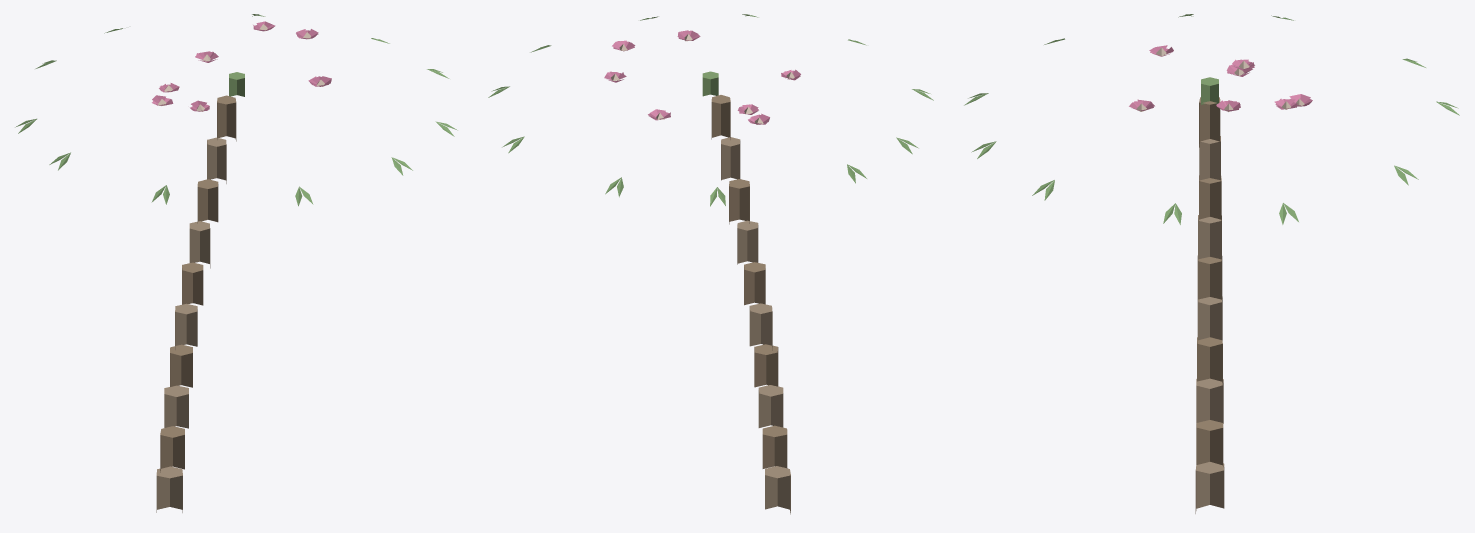
The model's file is shu.yezi@flowering__spring.glb.
The picture shows the model from 3 angles, left to right: view 1: azimuth 30°, elevation 25°; view 2: azimuth 150°, elevation 25°; view 3: azimuth 270°, elevation 25°; orthographic projection. The views are drawn at different scales.
Parts seen in each view (by area): view 1: shu.yezi@flowering__spring; view 2: shu.yezi@flowering__spring; view 3: shu.yezi@flowering__spring.
Boxes of the visible parts, x1,y1,x2,y2 form: shu.yezi@flowering__spring: (15,14,457,512); shu.yezi@flowering__spring: (488,14,933,514); shu.yezi@flowering__spring: (964,14,1459,513).
Size of the model in its own units: 11.27 by 12.13 by 11.23.
